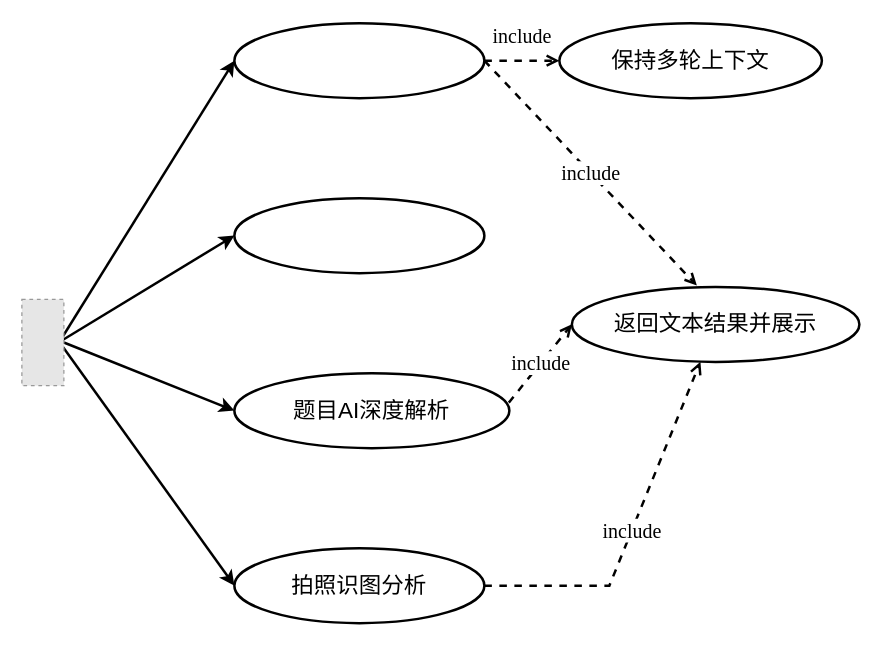
Some shapes in this 883 by 645 pixel diagram are drawn without their labels. Grey dashed boxes stand in for pictures. The shapes that lost their labels are listed below. From the top down, each one's box as (x1, y1, x2, y2) in pixels, then its label:
(232, 21, 485, 99): 发起智能问答
(232, 196, 485, 274): 生成推荐问题
